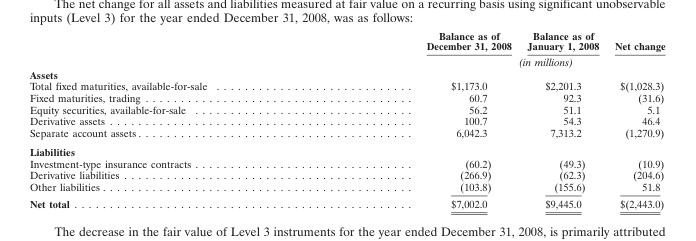table: (28, 29, 664, 209)
table column: (28, 29, 316, 209), (316, 29, 518, 209), (518, 29, 606, 209), (606, 29, 664, 209)
table column header: (28, 29, 664, 67)
table projected row header: (28, 141, 664, 157), (28, 67, 664, 79)
table row: (28, 29, 664, 53), (28, 141, 664, 157), (28, 126, 664, 141), (28, 194, 664, 209), (28, 53, 664, 67), (28, 180, 664, 194), (28, 67, 664, 79), (28, 79, 664, 91), (28, 91, 664, 103), (28, 114, 664, 126), (28, 168, 664, 180), (28, 103, 664, 114), (28, 157, 664, 168)
table spanning cell: (316, 53, 664, 67)
